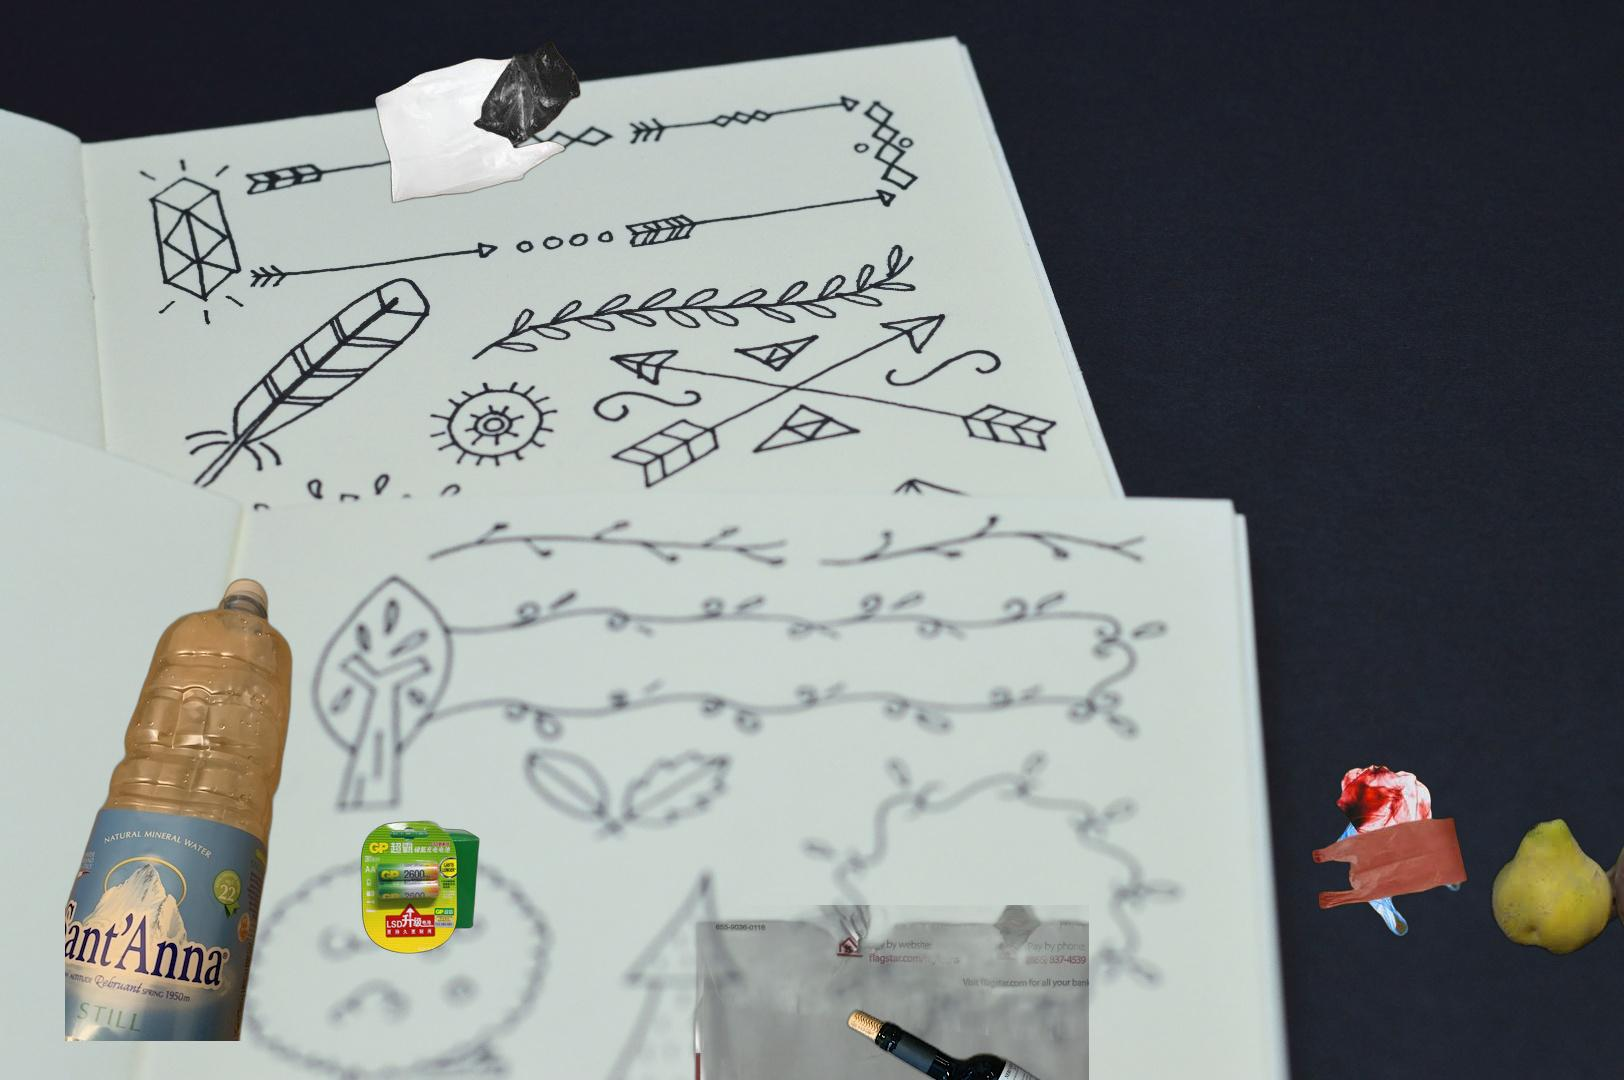battery: (354, 818, 482, 956)
biological: (1488, 783, 1624, 965)
glass: (843, 1004, 1151, 1080)
paper: (686, 905, 1089, 1080)
plastic-bag: (372, 40, 584, 205), (1310, 762, 1470, 938)
plastic-bottles: (65, 575, 294, 1041)
